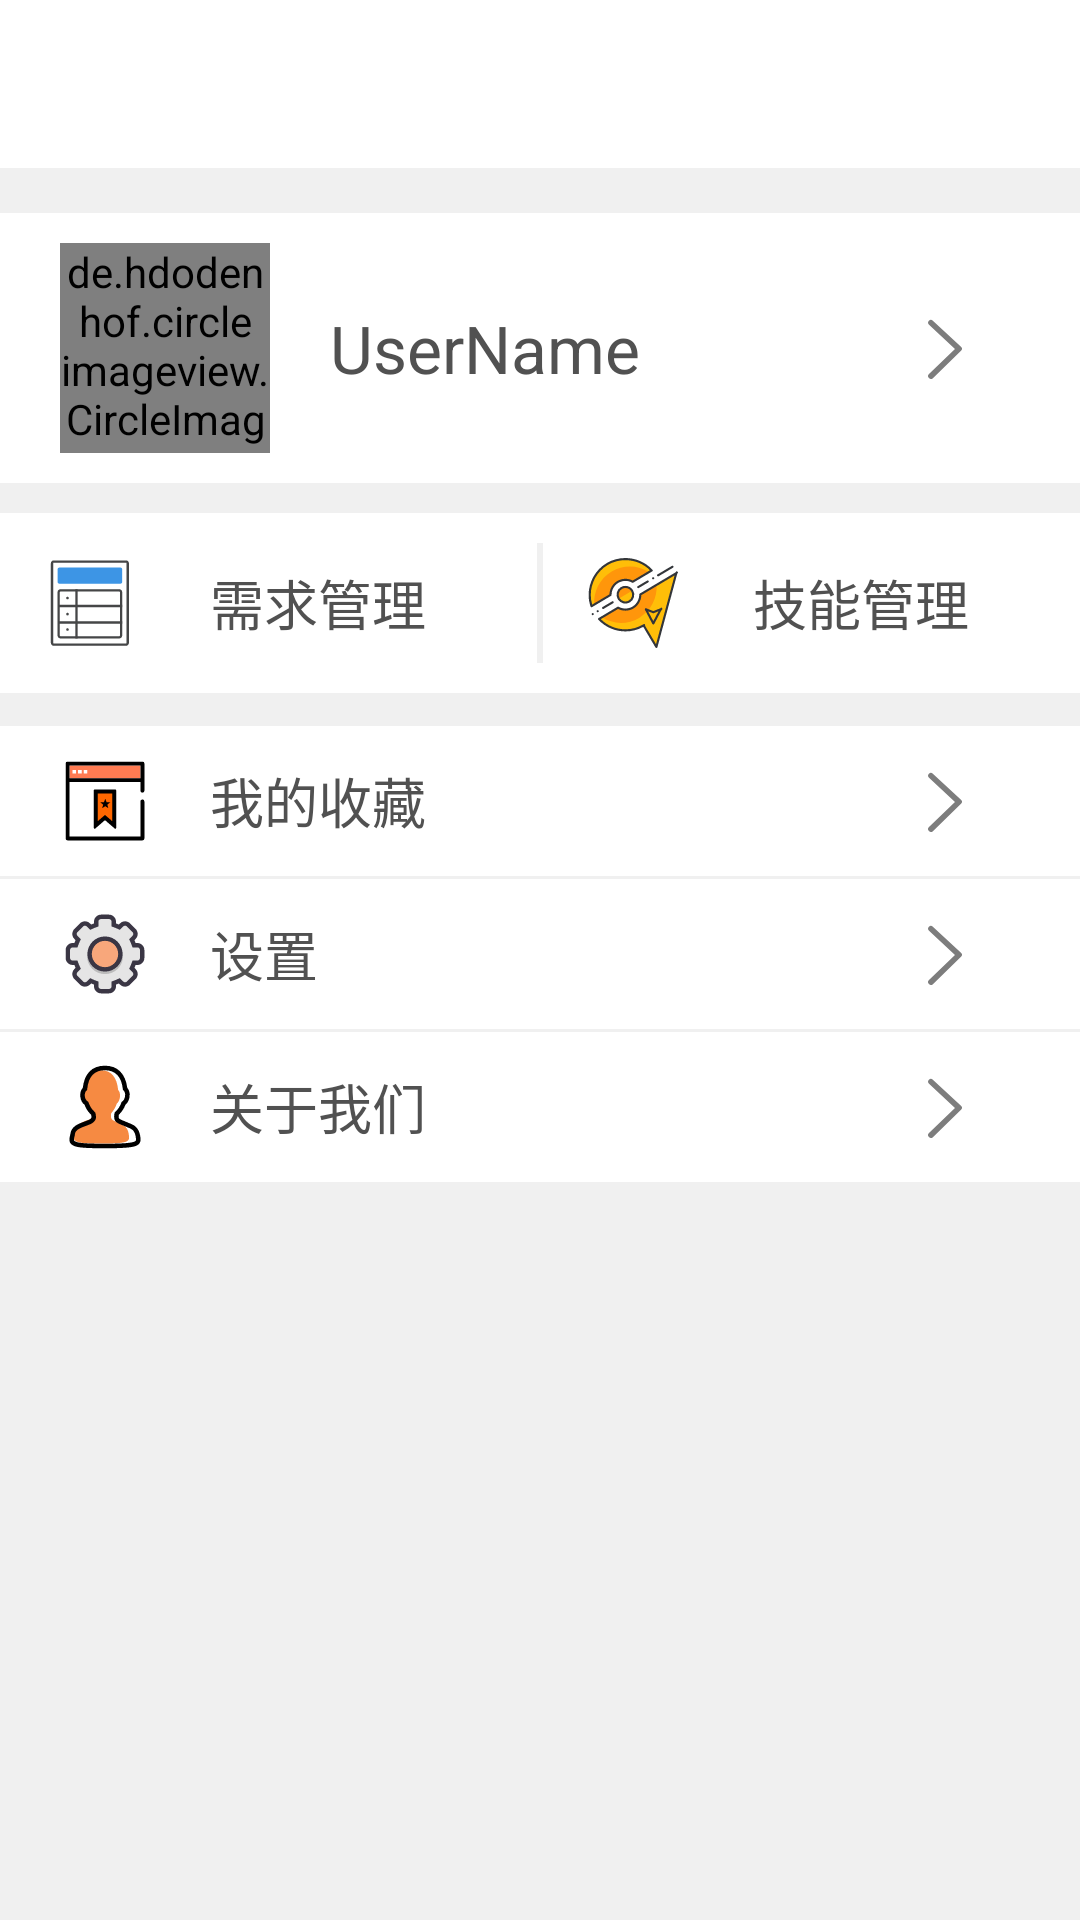

Icons on this 1080 x 1920 Android screen, each with its box as [x1=x1, y1=y1, x2=x2, y2=y2]:
about us: [x1=69, y1=1065, x2=141, y2=1149]
enter: [x1=928, y1=320, x2=962, y2=379], [x1=928, y1=773, x2=962, y2=832], [x1=928, y1=926, x2=962, y2=985], [x1=928, y1=1079, x2=962, y2=1138]
save: [x1=65, y1=761, x2=145, y2=841]
setting: [x1=65, y1=914, x2=145, y2=994]
